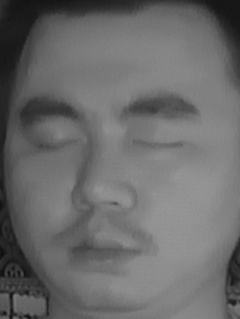blink: (133, 122, 188, 161), (35, 127, 79, 164)
mouth: (64, 217, 149, 278)
